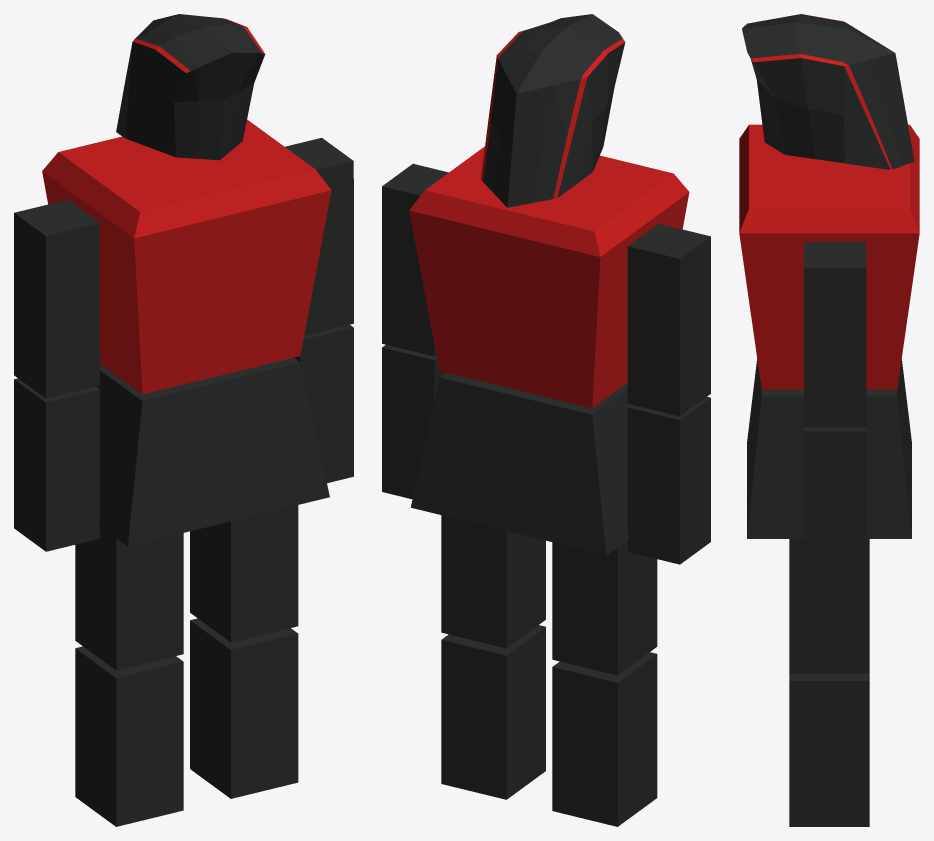
The model's file is Soldier.dae.
3 views of the same model, side by side, from view 1: azimuth 30°, elevation 25°; view 2: azimuth 150°, elevation 25°; view 3: azimuth 270°, elevation 25° (orthographic). The views are drawn at different scales.
Visible parts, largest first — view 1: Upper_torso, Lower_torso, Lower_Leg_L, Lower_Leg_R, Helmet, Upperarm_L, Upper_leg_L, Forearm_L, Upper_leg_R, Upperarm_R, Forearm_R; view 2: Upper_torso, Lower_torso, Helmet, Lower_Leg_L, Lower_Leg_R, Upperarm_L, Forearm_L, Upper_leg_L, Upper_leg_R, Upperarm_R, Forearm_R; view 3: Upper_torso, Helmet, Lower_torso, Lower_Leg_R, Upperarm_R, Forearm_R, Upper_leg_R.
Boxes of the visible parts, x1,y1,x2,y2 form: Upper_torso: (42, 119, 331, 394); Lower_torso: (96, 357, 329, 546); Lower_Leg_L: (75, 646, 183, 826); Lower_Leg_R: (190, 618, 298, 798); Helmet: (116, 14, 265, 160); Upperarm_L: (14, 199, 99, 398); Upper_leg_L: (75, 526, 183, 670); Forearm_L: (14, 378, 99, 551); Upper_leg_R: (190, 505, 298, 642); Upperarm_R: (285, 137, 353, 335); Forearm_R: (294, 324, 353, 483); Upper_torso: (409, 146, 689, 407); Lower_torso: (410, 372, 630, 555); Helmet: (481, 14, 625, 207); Lower_Leg_L: (552, 652, 657, 826); Lower_Leg_R: (441, 625, 545, 799); Upperarm_L: (627, 223, 710, 416); Forearm_L: (627, 396, 710, 564); Upper_leg_L: (552, 540, 657, 675); Upper_leg_R: (441, 515, 545, 648); Upperarm_R: (382, 163, 448, 356); Forearm_R: (382, 345, 445, 499); Upper_torso: (739, 124, 919, 389); Helmet: (742, 14, 914, 169); Lower_torso: (747, 359, 911, 538); Lower_Leg_R: (789, 673, 869, 826); Upperarm_R: (804, 242, 866, 427); Forearm_R: (804, 427, 866, 577); Upper_leg_R: (789, 539, 869, 673).
Size of the model in its own units: 74.18 by 179 by 38.4.
